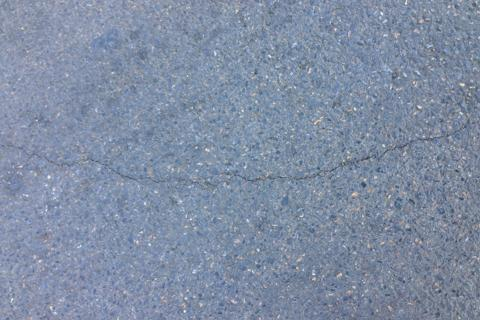crack: (2, 119, 480, 189)
